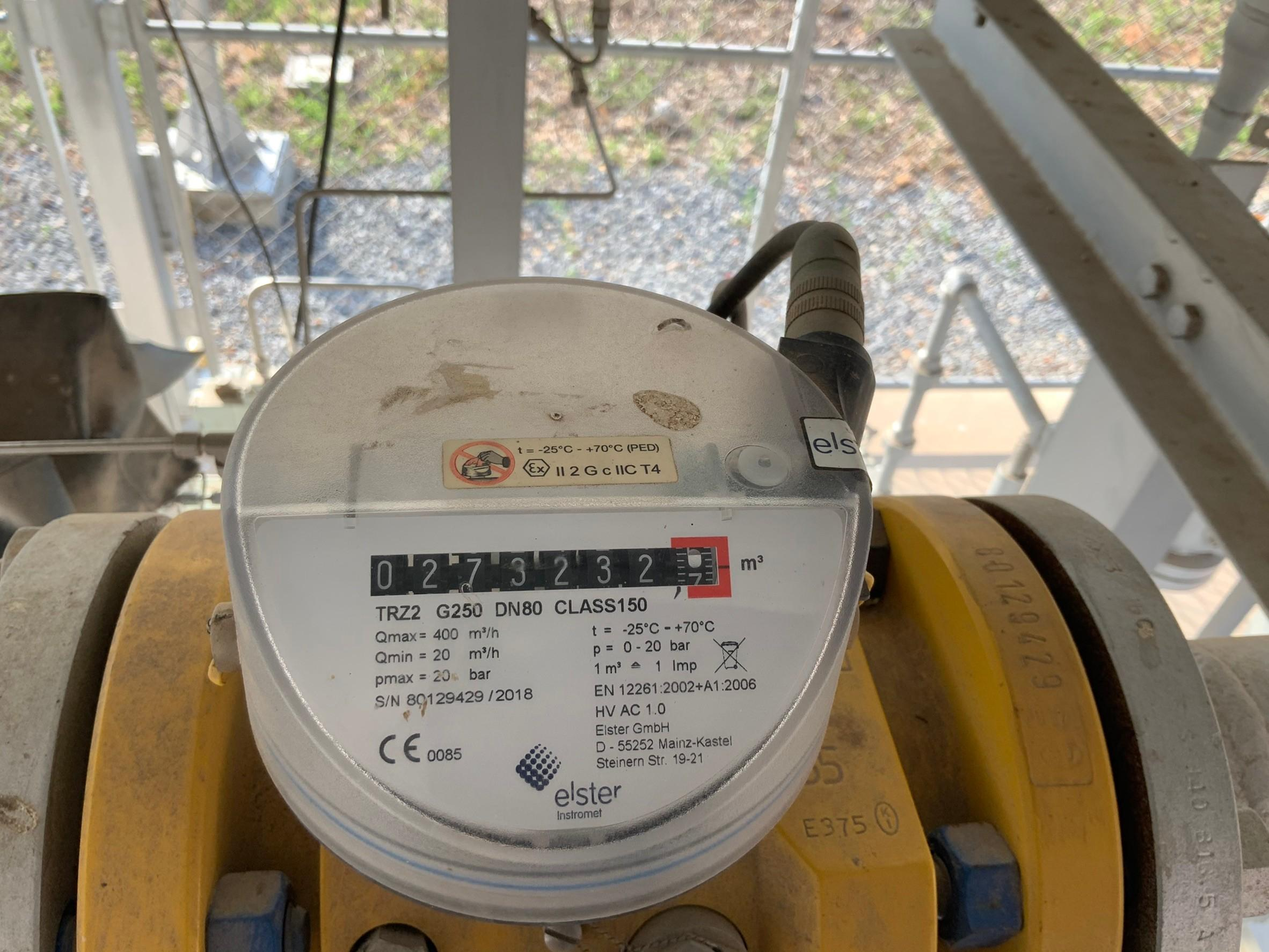analog_dial: (365, 532, 736, 602)
